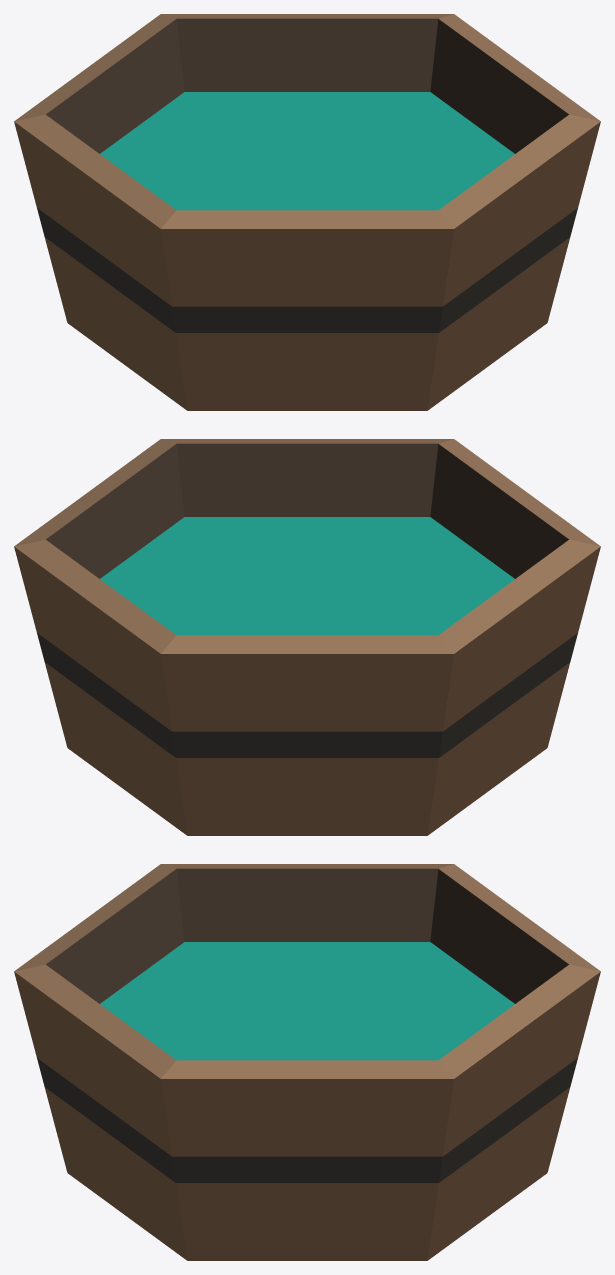
The model's file is TB_D_Prop_BucketBig_Water_A.FBX.
3 renders of one model, top to bottom at view 1: azimuth 30°, elevation 25°; view 2: azimuth 150°, elevation 25°; view 3: azimuth 270°, elevation 25°, orthographic.
Visible parts, largest first — view 1: TB_D_Prop_BucketBig_Water_A; view 2: TB_D_Prop_BucketBig_Water_A; view 3: TB_D_Prop_BucketBig_Water_A.
Boxes of the visible parts, x1,y1,x2,y2 form: TB_D_Prop_BucketBig_Water_A: (14,14,600,410); TB_D_Prop_BucketBig_Water_A: (14,439,600,835); TB_D_Prop_BucketBig_Water_A: (14,864,600,1260).
Size of the model in its own units: 0.9353 by 0.4233 by 1.08.
